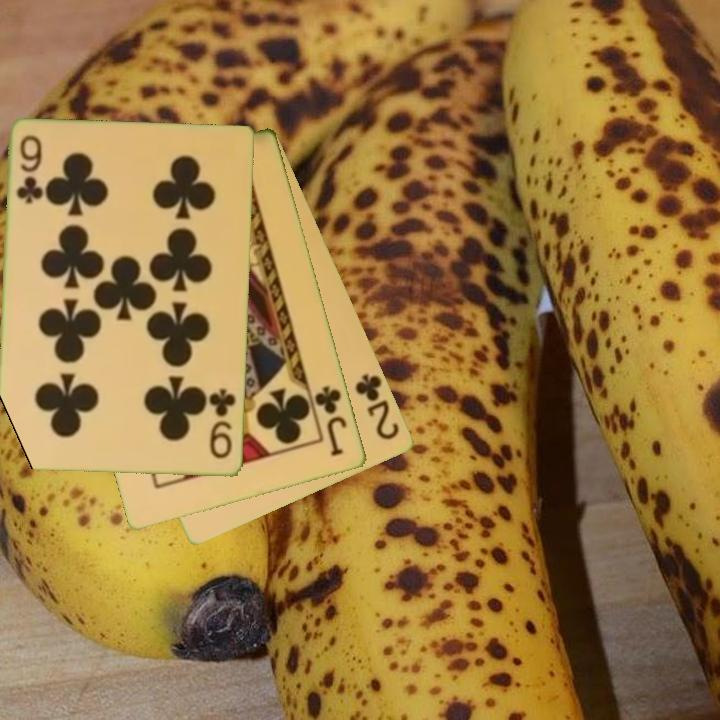2c: (352, 370, 403, 443)
9c: (206, 385, 239, 462), (13, 132, 45, 207)
Jc: (311, 382, 351, 460)
